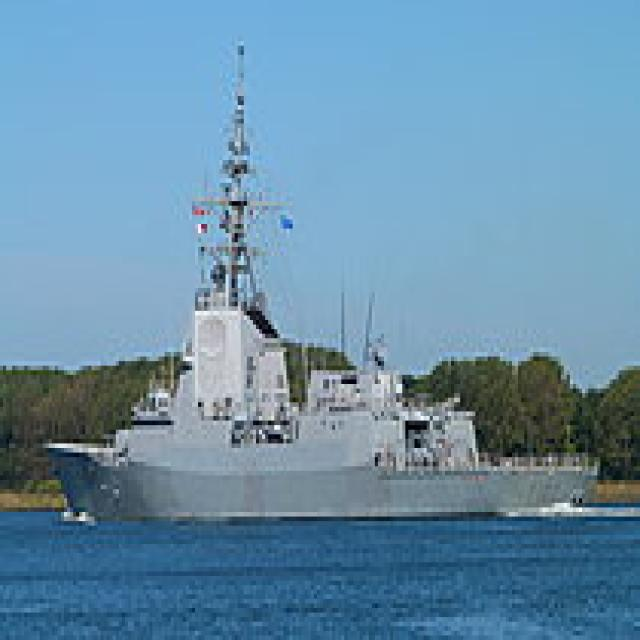Warship: (39, 36, 600, 516)
